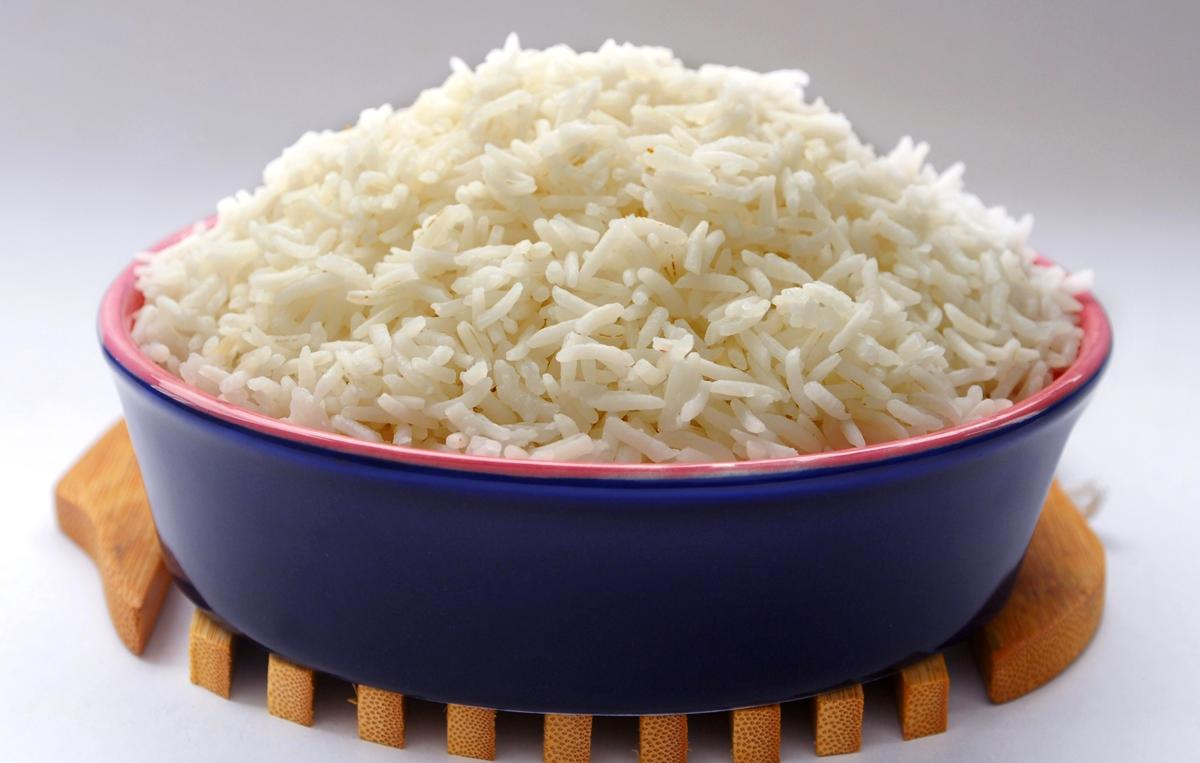plain rice: (106, 22, 1091, 448)
